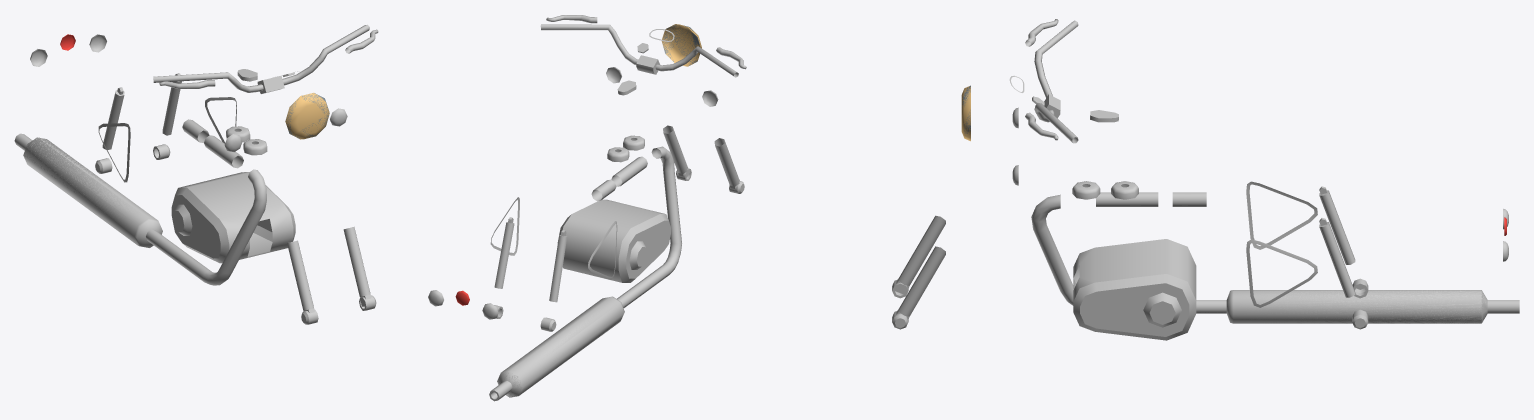
The model's file is SM_Vehicles_ Bike_03_V1.fbx.
3 renders of one model, left to right at view 1: azimuth 30°, elevation 25°; view 2: azimuth 150°, elevation 25°; view 3: azimuth 270°, elevation 25°, orthographic. The views are drawn at different scales.
Parts seen in each view (by area): view 1: SM_Vehicles_ Bike_03_V1, SM_Vehicles_ Bike_03_V1_Steering_Wheel, SM_Vehicles_ Bike_03_V2, SM_Vehicles_ Bike_03_V2_Steering_Wheel, SM_Vehicles_ Bike_03_B; view 2: SM_Vehicles_ Bike_03_V1, SM_Vehicles_ Bike_03_V2, SM_Vehicles_ Bike_03_V1_Steering_Wheel, SM_Vehicles_ Bike_03_V2_Steering_Wheel; view 3: SM_Vehicles_ Bike_03_V2, SM_Vehicles_ Bike_03_V1, SM_Vehicles_ Bike_03_V1_Steering_Wheel, SM_Vehicles_ Bike_03_V2_Steering_Wheel.
Boxes of the visible parts, x1,y1,x2,y2 form: SM_Vehicles_ Bike_03_V1: (14, 34, 345, 285); SM_Vehicles_ Bike_03_V1_Steering_Wheel: (153, 24, 378, 324); SM_Vehicles_ Bike_03_V2: (16, 34, 347, 284); SM_Vehicles_ Bike_03_V2_Steering_Wheel: (153, 27, 378, 324); SM_Vehicles_ Bike_03_B: (95, 144, 170, 173); SM_Vehicles_ Bike_03_V1: (429, 67, 718, 401); SM_Vehicles_ Bike_03_V2: (428, 69, 717, 399); SM_Vehicles_ Bike_03_V1_Steering_Wheel: (540, 15, 745, 193); SM_Vehicles_ Bike_03_V2_Steering_Wheel: (541, 17, 746, 193); SM_Vehicles_ Bike_03_V2: (1012, 108, 1519, 340); SM_Vehicles_ Bike_03_V1: (1014, 107, 1519, 323); SM_Vehicles_ Bike_03_V1_Steering_Wheel: (892, 24, 1078, 329); SM_Vehicles_ Bike_03_V2_Steering_Wheel: (892, 19, 1078, 321).
Size of the model in its own units: 0.9042 by 1.14 by 2.27.
